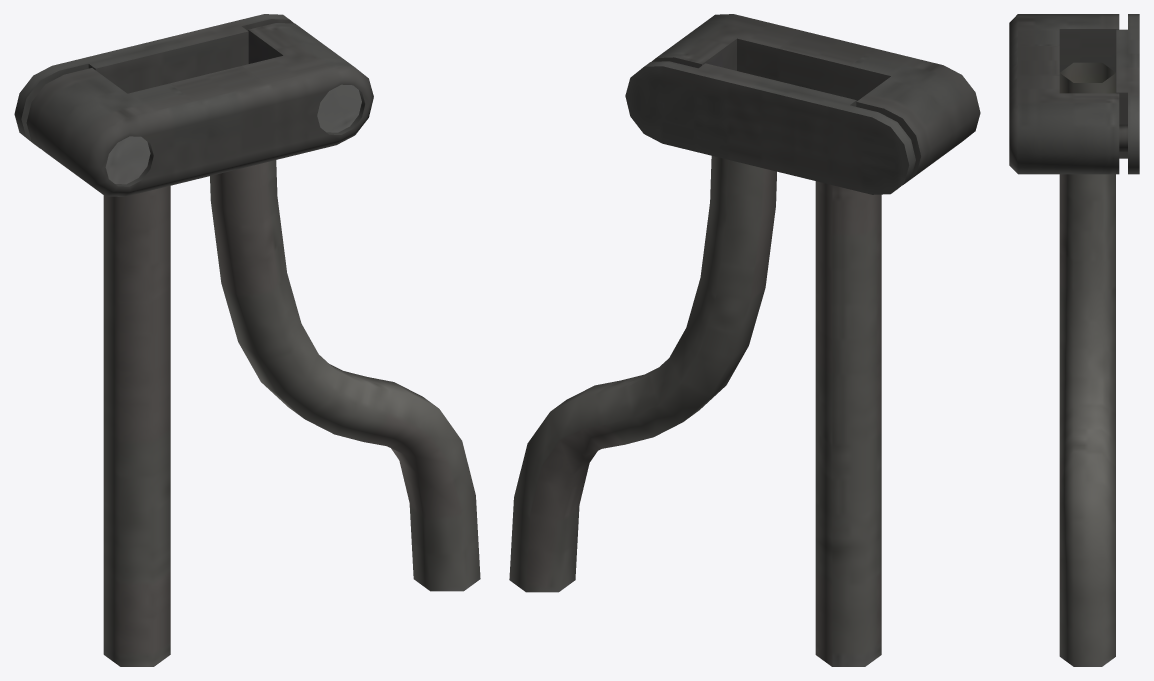
Rendered from cable_to_double_1.gltf.
3 renders of one model, left to right at view 1: azimuth 30°, elevation 25°; view 2: azimuth 150°, elevation 25°; view 3: azimuth 270°, elevation 25°, orthographic. The views are drawn at different scales.
Visible parts, largest first — view 1: cable_to_double_1; view 2: cable_to_double_1; view 3: cable_to_double_1.
Boxes of the visible parts, x1,y1,x2,y2 form: cable_to_double_1: (14,14,480,666); cable_to_double_1: (509,14,980,666); cable_to_double_1: (1009,14,1139,666).
Size of the model in its own units: 0.0827 by 0.1073 by 0.0259.
Materials: 1 (1 with a texture image).
